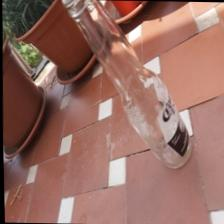glass: (45, 0, 192, 185)
